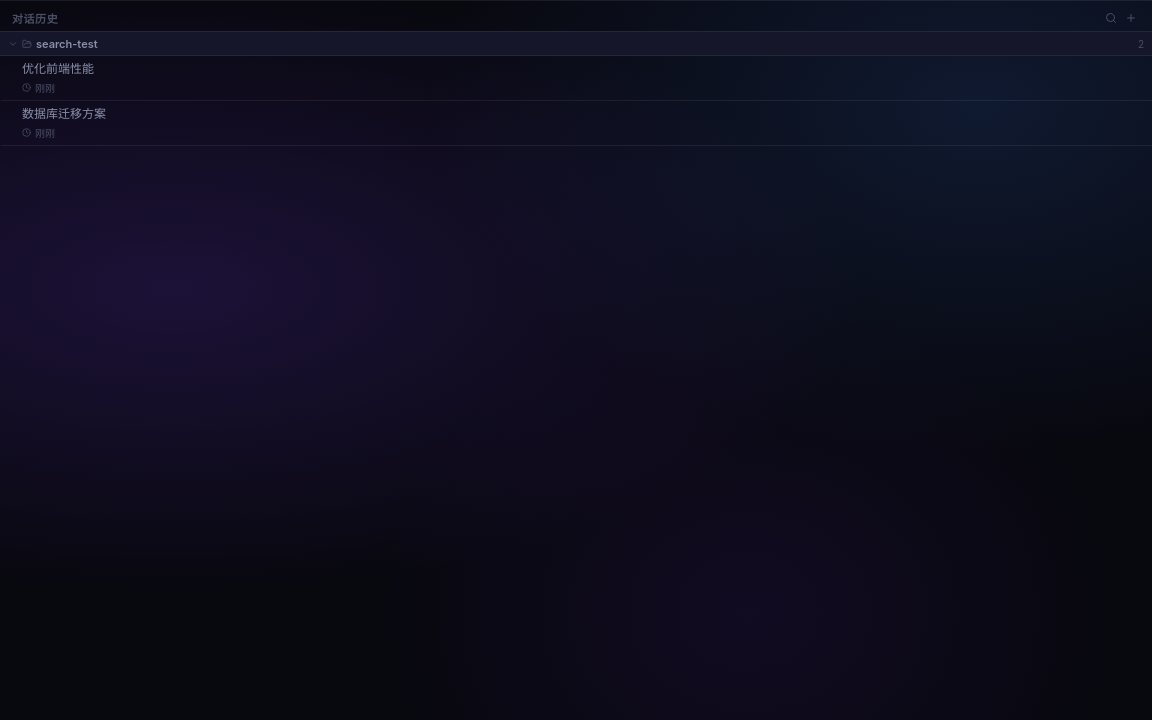
it: SessionList - 搜索过滤 › 搜索框输入后过滤会话
The width and height of the screenshot is (1152, 720).
Click the button titled "搜索" at (1111, 18), box [1102, 9, 1120, 27]
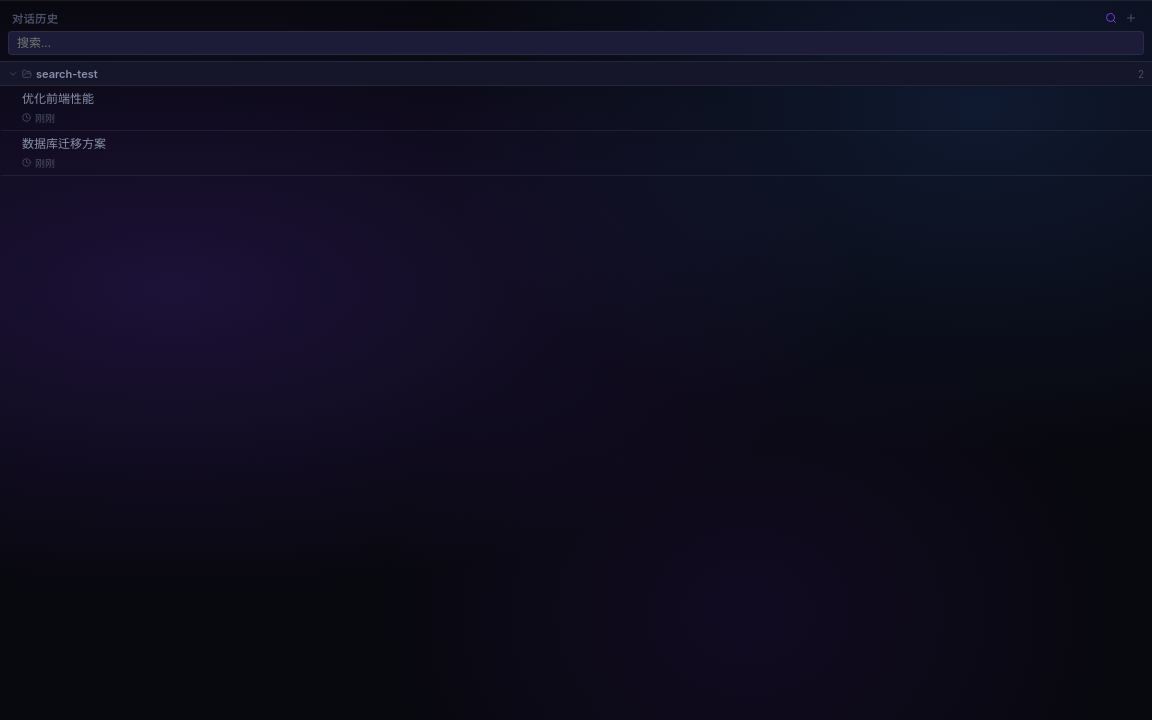
Check: the field is shown
Type "前端" into the field at (576, 43), box [8, 31, 1144, 55]
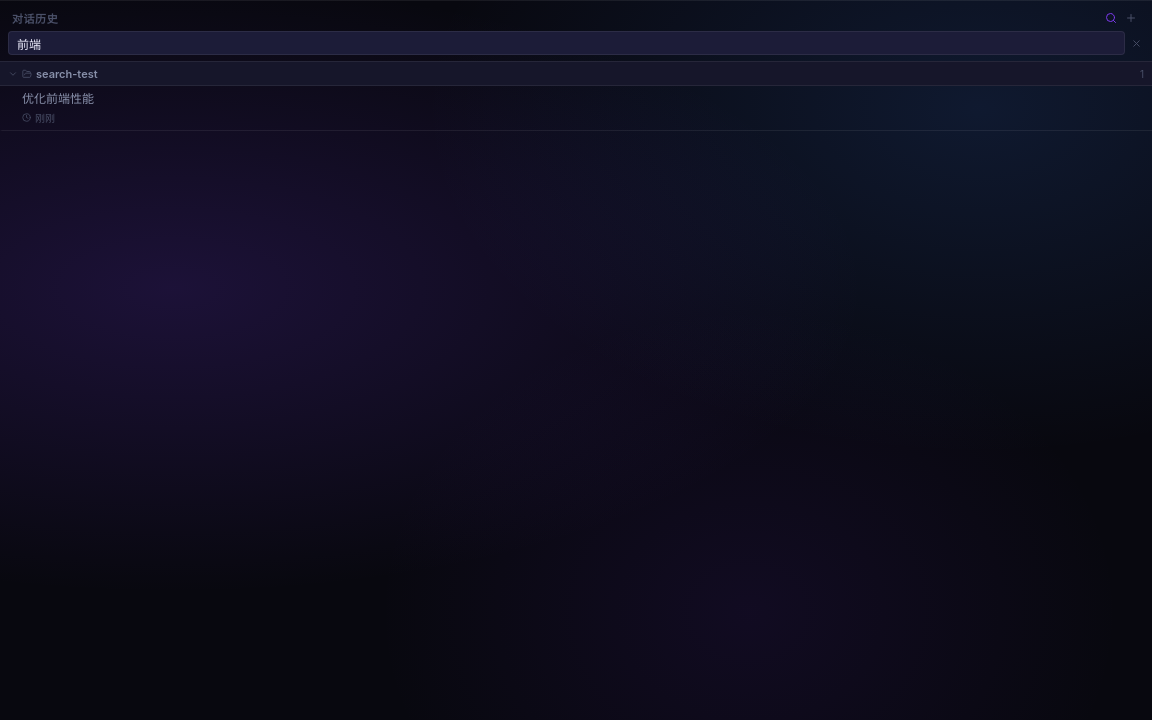
Check: the text "优化前端性能" is shown, box [22, 91, 94, 106]
Check: the text "数据库迁移" is gone
